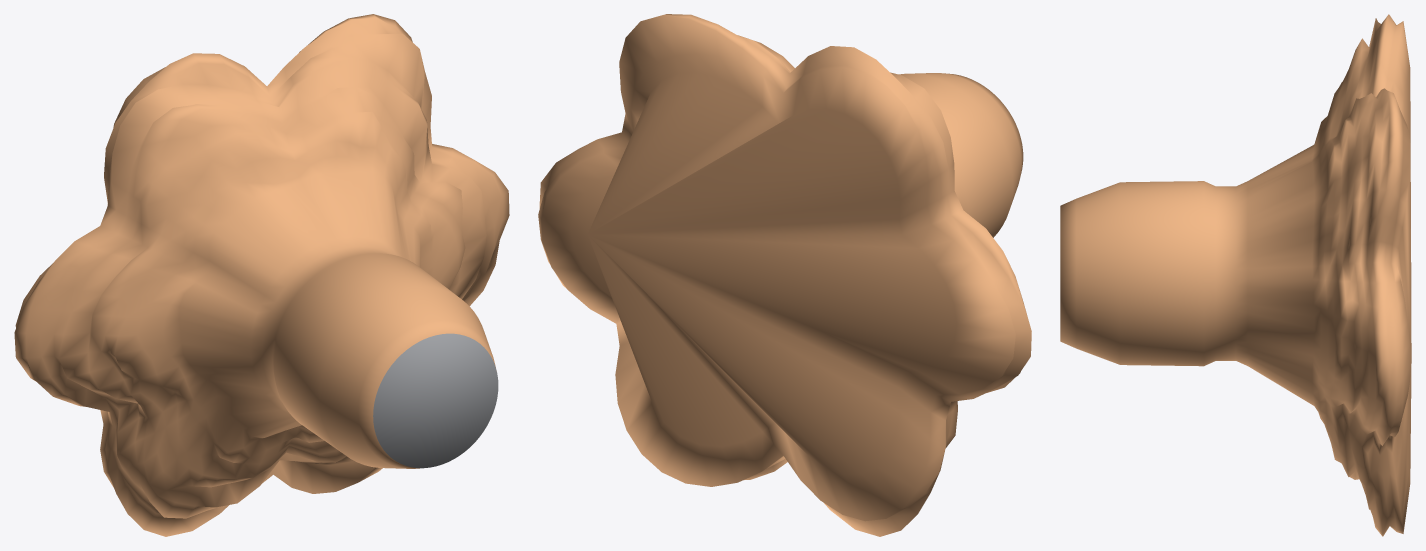
The model's file is bullet_mushroom.glb.
3 views of the same model, side by side, from view 1: azimuth 30°, elevation 25°; view 2: azimuth 150°, elevation 25°; view 3: azimuth 270°, elevation 25° (orthographic). The views are drawn at different scales.
Visible parts, largest first — view 1: bala_hongo; view 2: bala_hongo; view 3: bala_hongo.
Boxes of the visible parts, <box> form: bala_hongo: <box>14,14,509,536</box>; bala_hongo: <box>538,14,1031,536</box>; bala_hongo: <box>1060,14,1411,536</box>.
Size of the model in its own units: 0.0227 by 0.0211 by 0.015.
